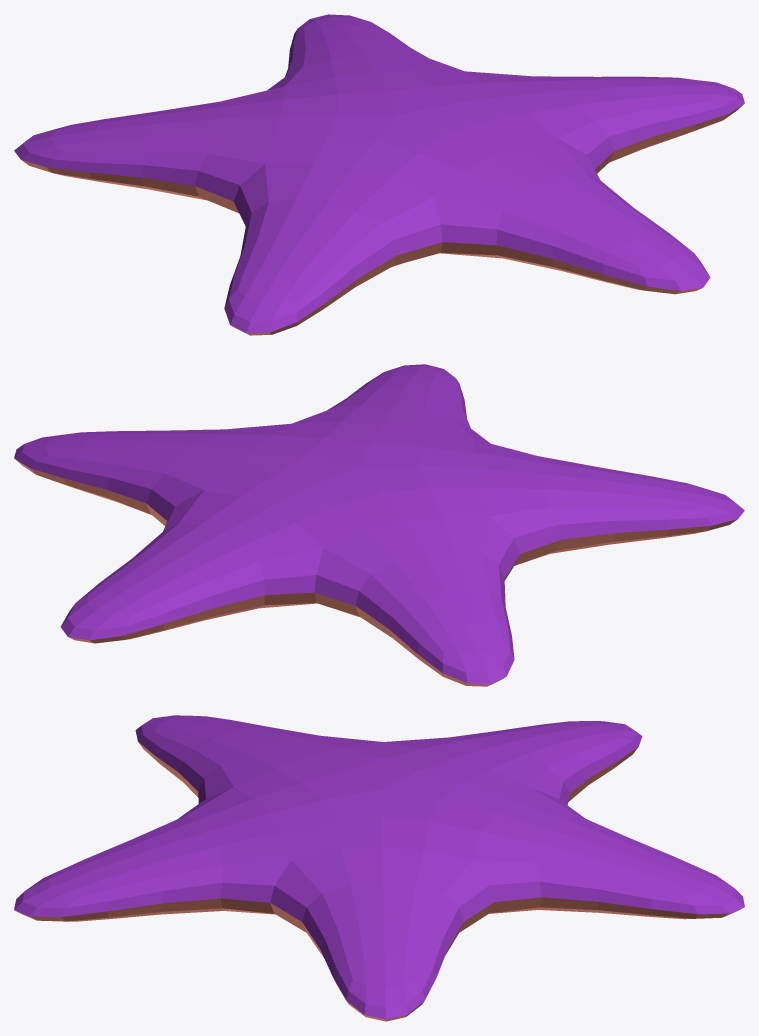
File: starfish.fbx
3 views of the same model, one above another, from view 1: azimuth 30°, elevation 25°; view 2: azimuth 150°, elevation 25°; view 3: azimuth 270°, elevation 25° (orthographic).
Parts seen in each view (by area): view 1: Starfish; view 2: Starfish; view 3: Starfish.
Boxes of the visible parts, <box> form: Starfish: <box>14,14,744,335</box>; Starfish: <box>14,364,744,686</box>; Starfish: <box>14,715,744,1021</box>.
Size of the model in its own units: 616 by 76.74 by 636.
